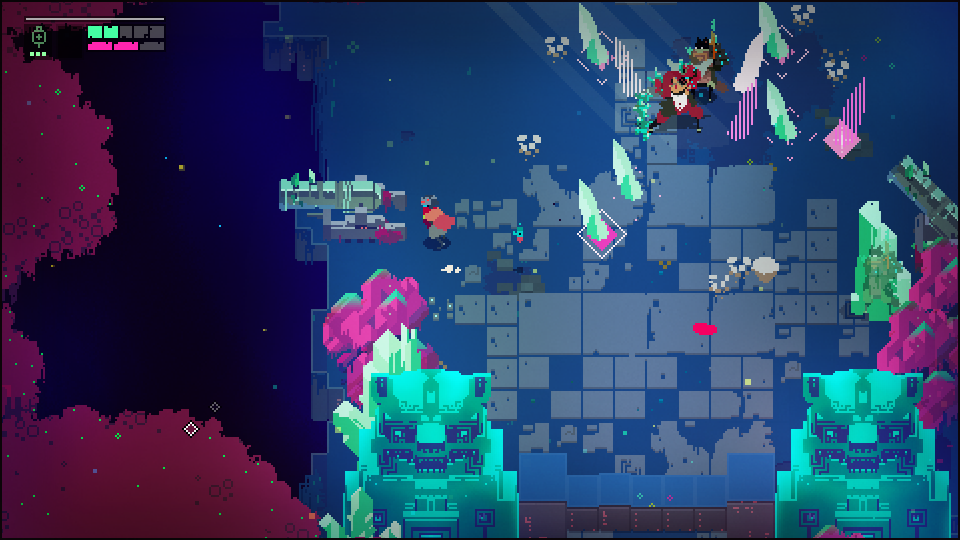hanged_crys: (826, 74, 865, 150), (575, 4, 613, 70), (726, 74, 756, 146), (764, 80, 796, 138), (612, 140, 641, 203), (576, 176, 604, 235)
hanged_man: (632, 62, 719, 138)
player: (418, 200, 457, 241)
